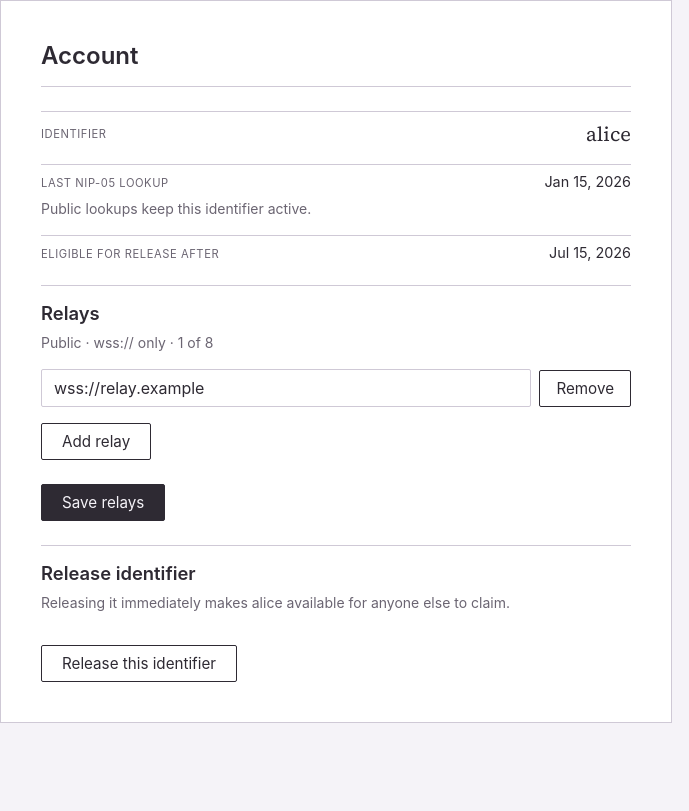
account relay editor › associates a submitted relay error with its visible row after a blank row
Clear the field at (286, 388), box [41,369,531,407]
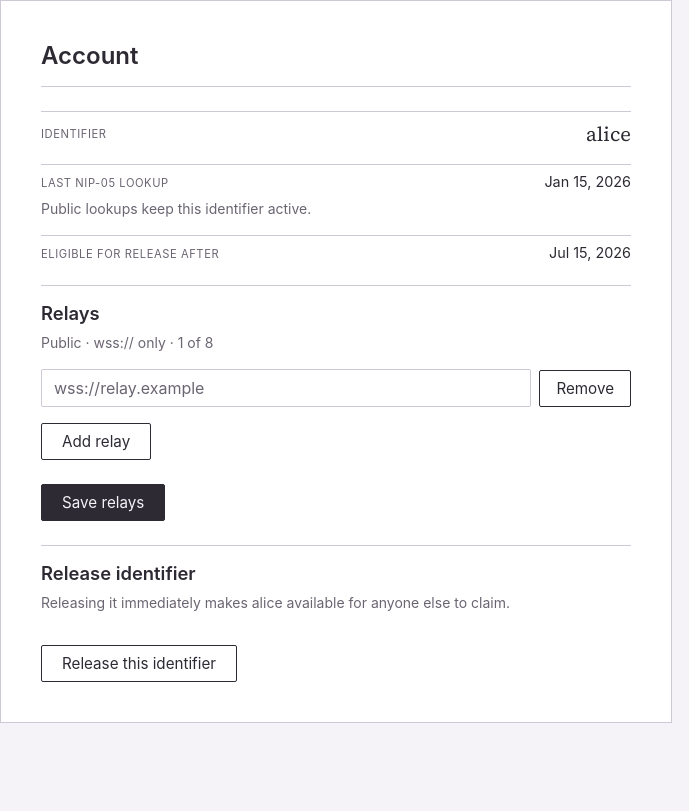
Click the button "Add relay" at (96, 442), box [41,423,151,460]
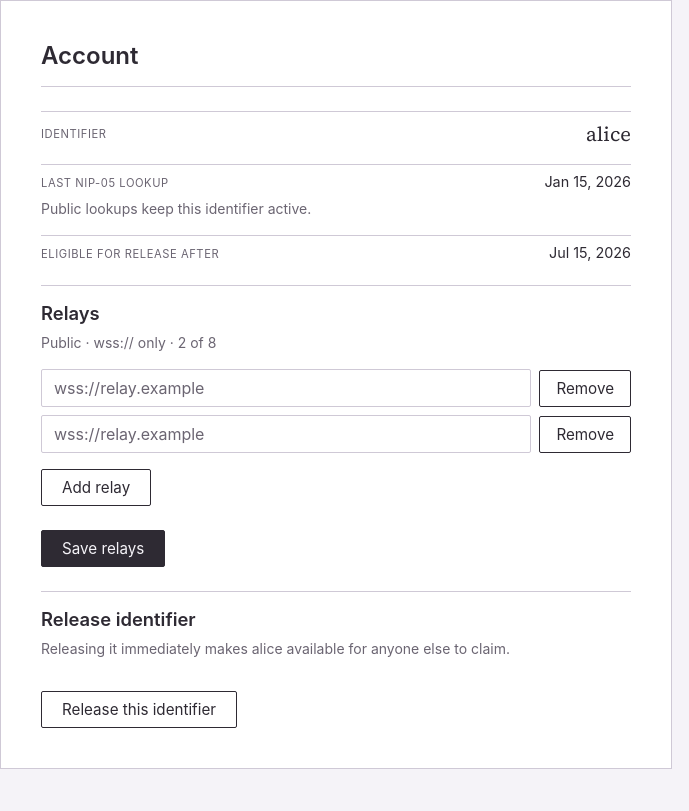
Type "not-a-url" into the 2nd field with placeholder "wss://relay.example" at (286, 434), box [41,415,531,453]
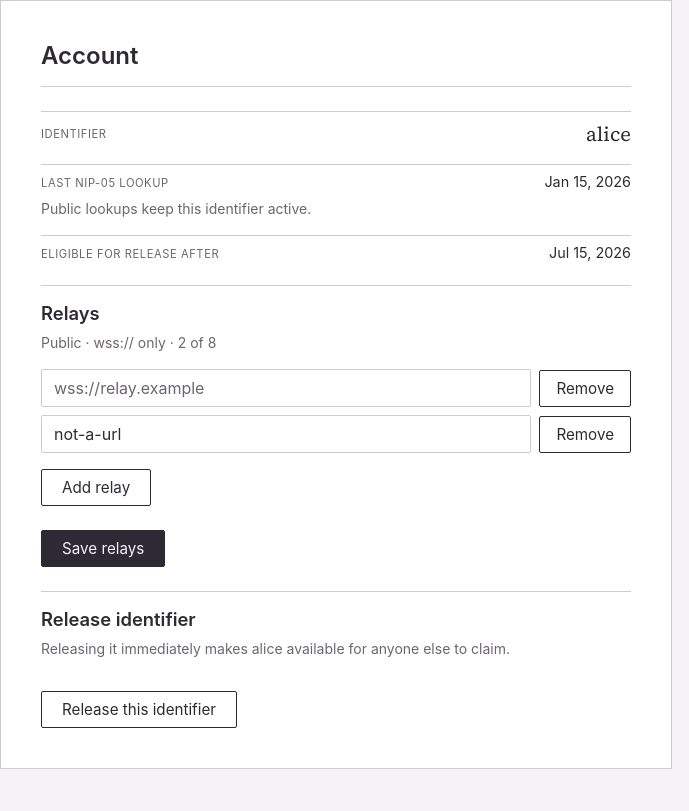
Click the button "Save relays" at (103, 548), box [41,530,165,567]
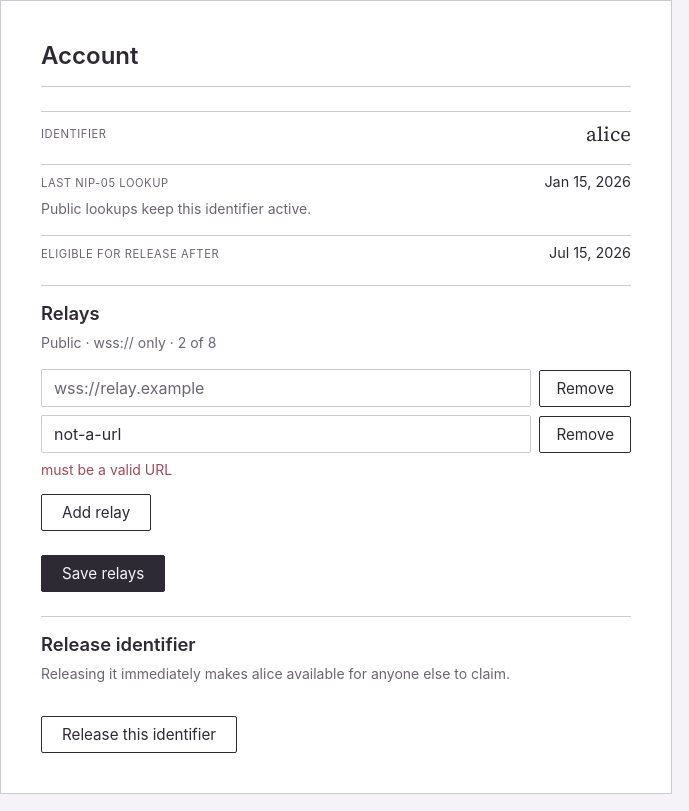
Result: the message "must be a valid URL" is shown at [41,461,172,478]
